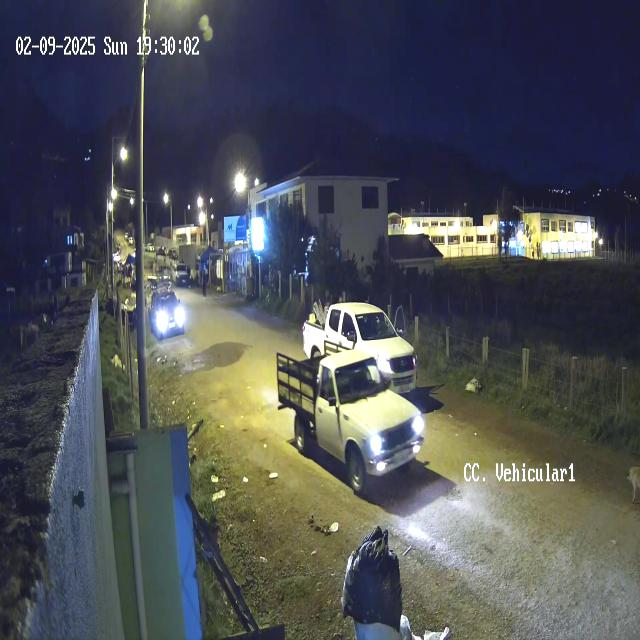CMT: (276, 339, 424, 498), (302, 299, 417, 376)
